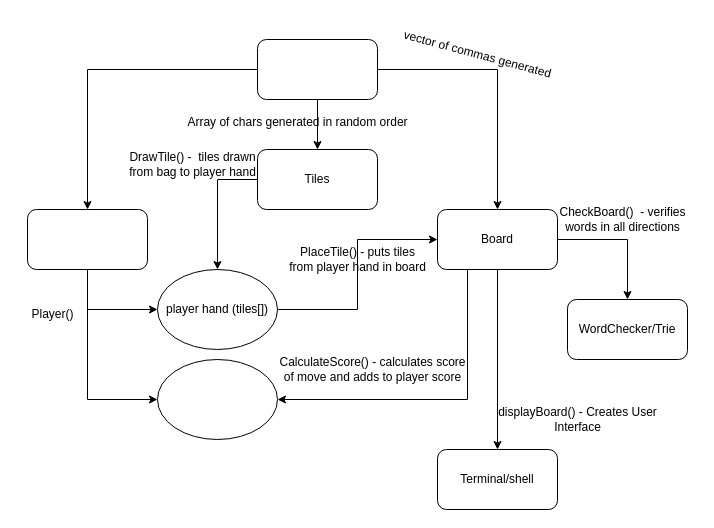
Some shapes in this 714 by 528 pixel diagram are drawn without their labels. Each missing label, with the centre of its shape:
Game Creator: [317,69]
Player Score (int): [217,399]
Players: [87,239]
